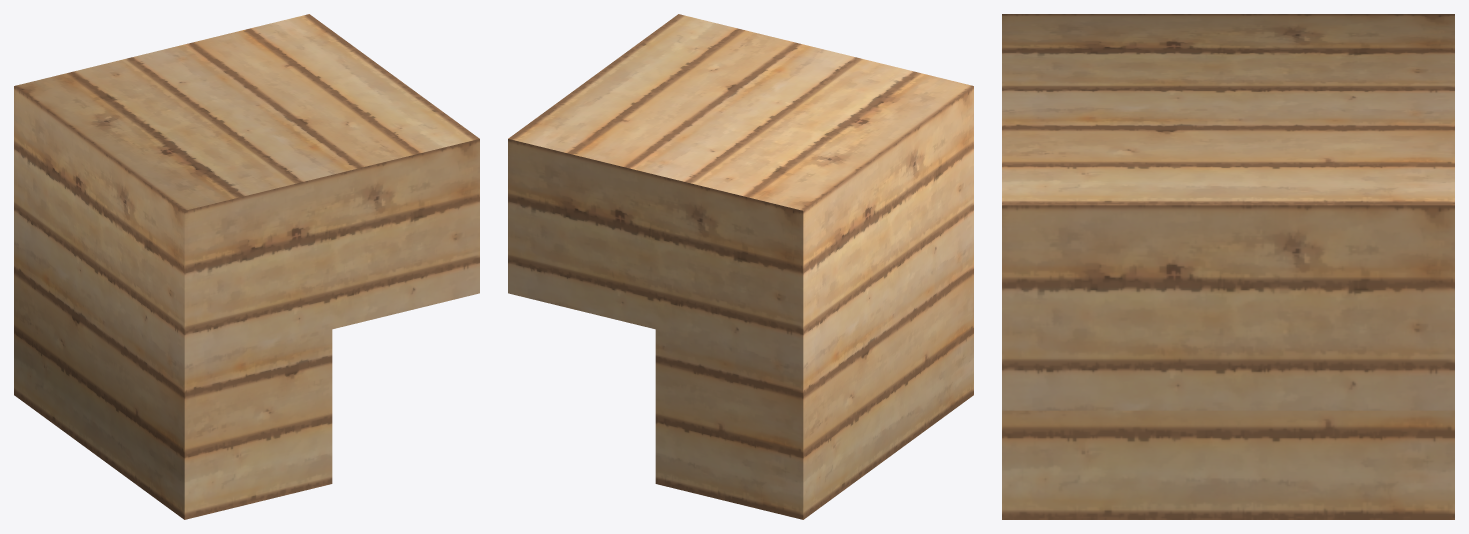
The model's file is step_inverted.fbx.
The picture shows the model from 3 angles, left to right: view 1: azimuth 30°, elevation 25°; view 2: azimuth 150°, elevation 25°; view 3: azimuth 270°, elevation 25°; orthographic projection. The views are drawn at different scales.
Visible parts, largest first — view 1: Cube; view 2: Cube; view 3: Cube.
Boxes of the visible parts, x1,y1,x2,y2 form: Cube: [14, 14, 479, 519]; Cube: [508, 14, 973, 519]; Cube: [1002, 14, 1454, 519].
Bounding box in the file's own units: 100 × 100 × 100.
